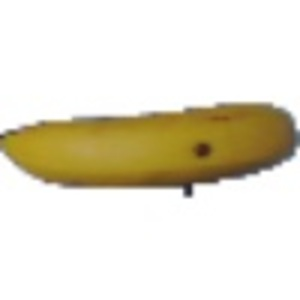banana: (4, 93, 298, 189)
